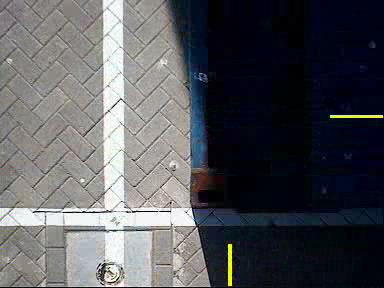groundmarker_2: (7, 1, 170, 146)
